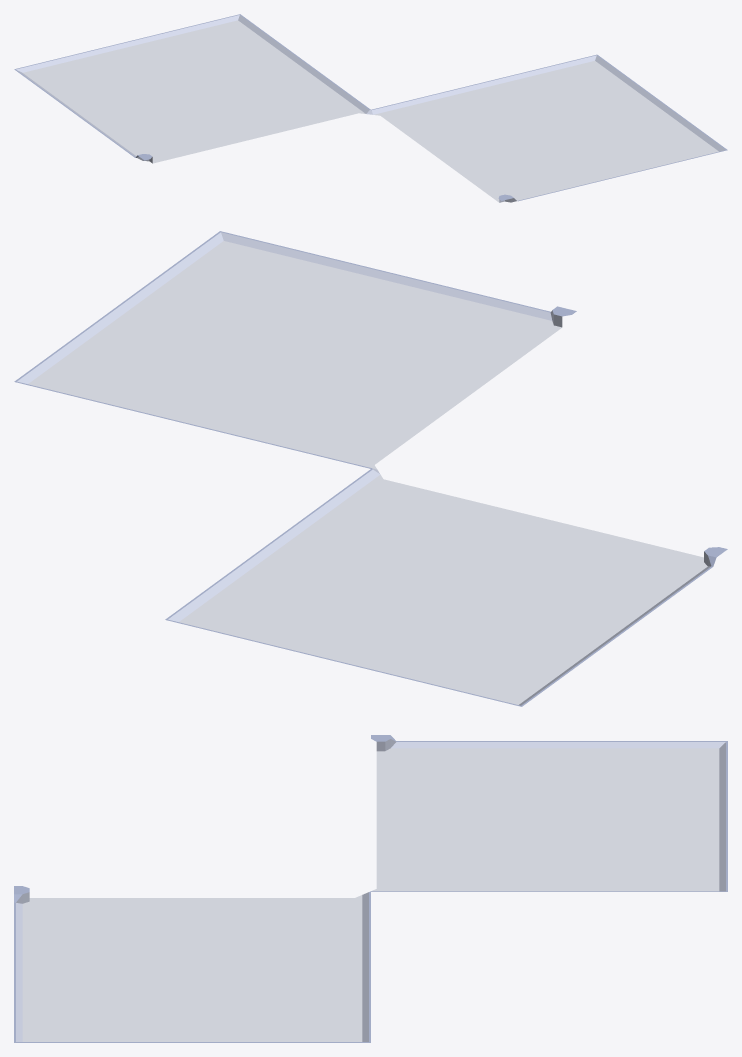
Rendered from Tile_Ceiling_Corner_Out.fbx.
3 renders of one model, top to bottom at view 1: azimuth 30°, elevation 25°; view 2: azimuth 150°, elevation 25°; view 3: azimuth 270°, elevation 25°, orthographic. The views are drawn at different scales.
Parts seen in each view (by area): view 1: TIle_Ceiling_CornerOUT; view 2: TIle_Ceiling_CornerOUT; view 3: TIle_Ceiling_CornerOUT.
Part boxes in pixels (x1,y1,x2,y2): TIle_Ceiling_CornerOUT: (14,14,727,202); TIle_Ceiling_CornerOUT: (14,231,727,706); TIle_Ceiling_CornerOUT: (14,735,727,1042).
Size of the model in its own units: 400 by 5.9 by 400.
Materials: 1 (1 with a texture image).
